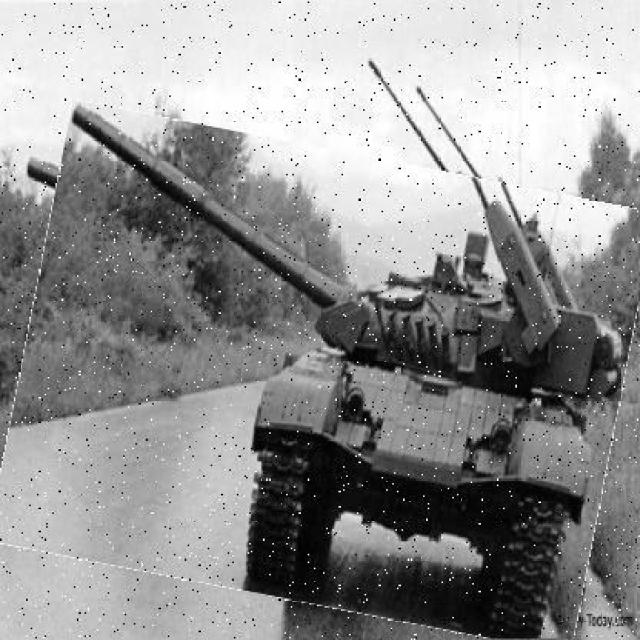Tank: (7, 129, 638, 630)
